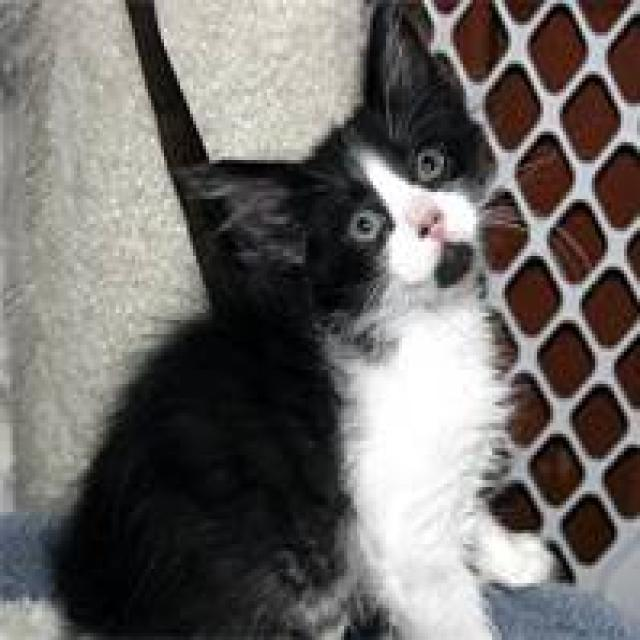cat: (45, 0, 559, 636)
